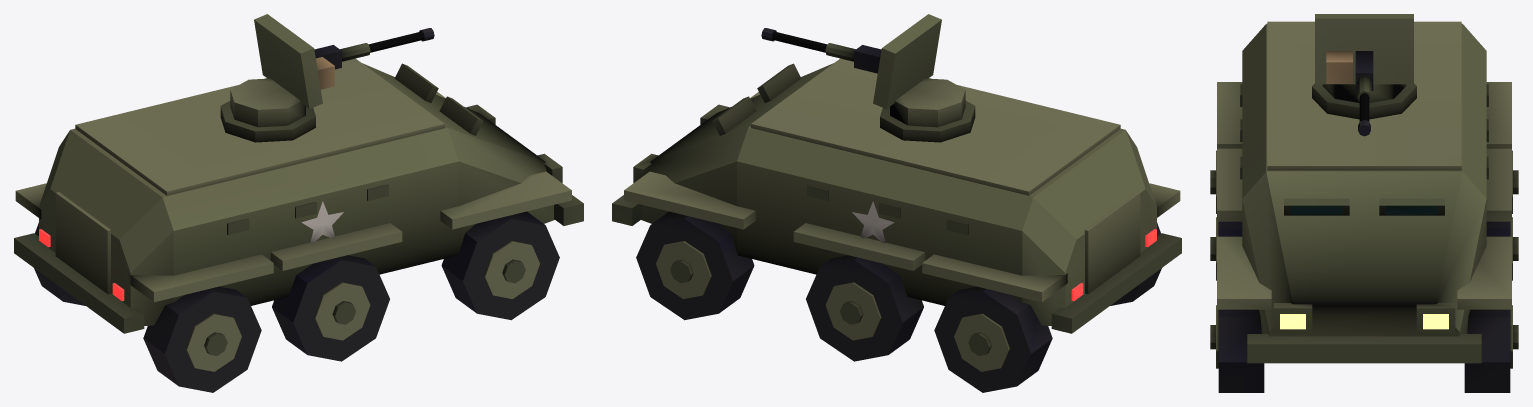
File: veh.military-apc.lod2.glb
3 renders of one model, left to right at view 1: azimuth 30°, elevation 25°; view 2: azimuth 150°, elevation 25°; view 3: azimuth 270°, elevation 25°, orthographic. The views are drawn at different scales.
Parts seen in each view (by area): view 1: body, wheelRL, wheelFL, wheelML, turret, gun, wheelRR; view 2: body, wheelRR, wheelFR, wheelMR, turret, gun, wheelRL; view 3: body, turret, wheelFL, wheelFR, gun, lightsFront, wheelML, wheelMR.
Boxes of the visible parts, box(x1,y1,x2,y2) form: body: box(14, 58, 583, 333); wheelRL: box(143, 286, 261, 392); wheelFL: box(441, 211, 559, 320); wheelML: box(272, 255, 389, 361); turret: box(220, 14, 322, 142); gun: box(314, 28, 434, 89); wheelRR: box(34, 222, 85, 305); body: box(612, 58, 1181, 333); wheelRR: box(934, 286, 1052, 392); wheelFR: box(636, 211, 754, 320); wheelMR: box(806, 255, 923, 361); turret: box(873, 14, 975, 142); gun: box(761, 28, 881, 73); wheelRL: box(1110, 222, 1161, 305); body: box(1217, 21, 1511, 363); turret: box(1312, 14, 1416, 119); wheelFL: box(1210, 305, 1264, 392); wheelFR: box(1464, 305, 1518, 392); gun: box(1326, 51, 1373, 136); lightsFront: box(1280, 314, 1448, 329); wheelML: box(1210, 217, 1242, 280); wheelMR: box(1486, 217, 1518, 280).
Size of the model in its own units: 5.69 by 3.26 by 3.11.
